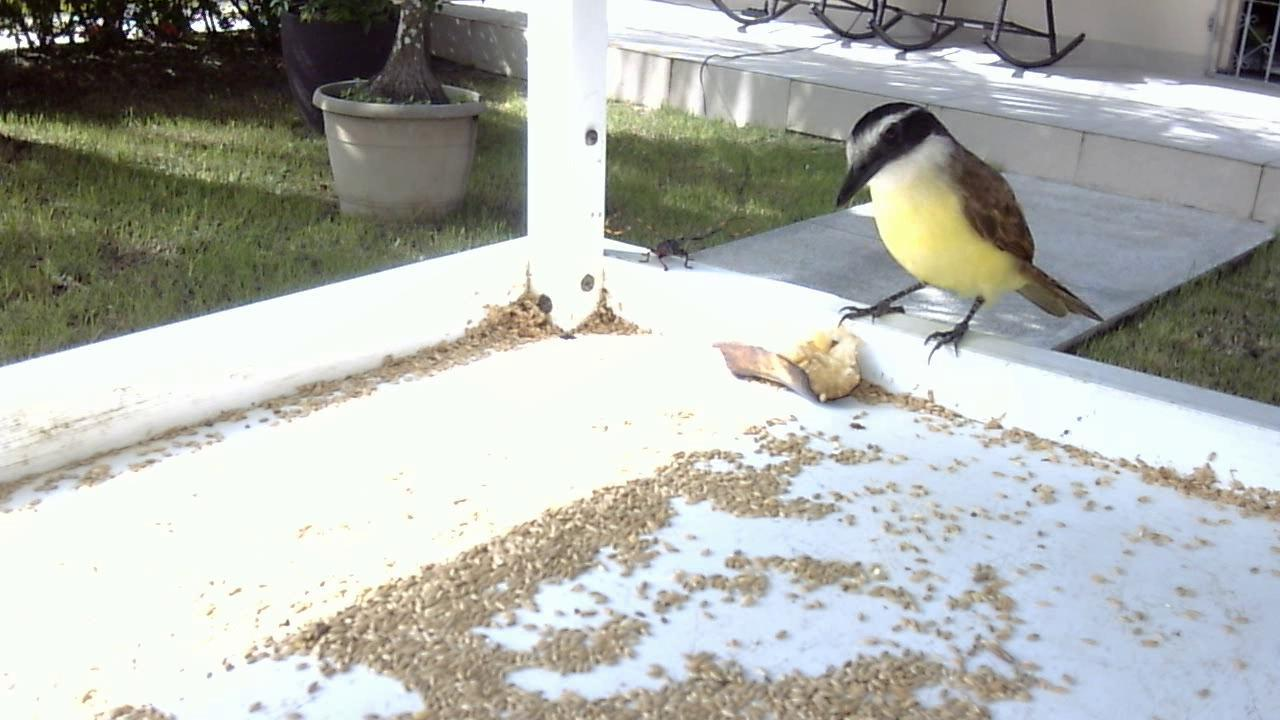bem_te_vi: (813, 89, 1108, 385)
